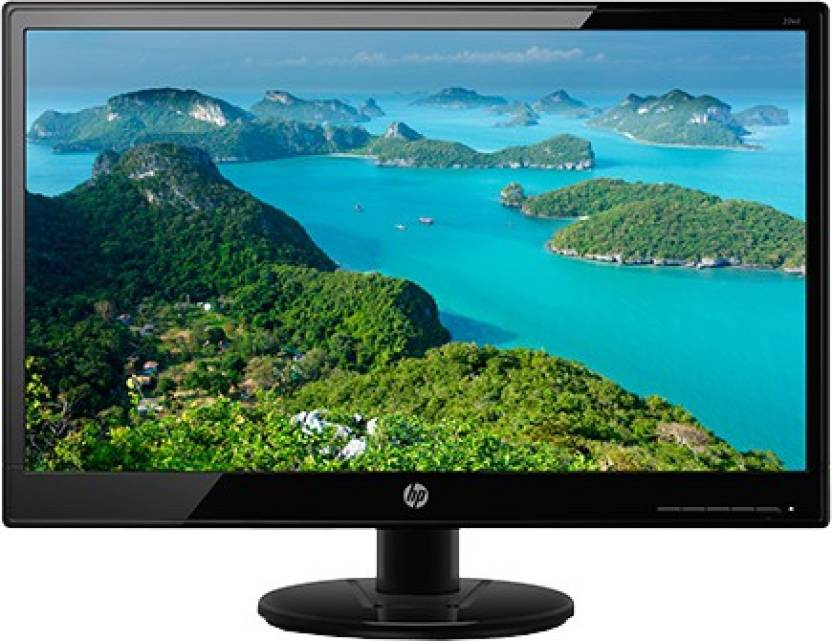hp-monitor-19ka: (1, 3, 829, 640)
